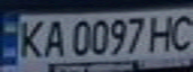0: (66, 17, 93, 57), (90, 16, 112, 56)
7: (124, 14, 151, 54)
9: (109, 16, 130, 56)
A: (36, 17, 69, 59)
C: (166, 10, 193, 53)
H: (145, 11, 181, 53)
K: (12, 17, 48, 60)
